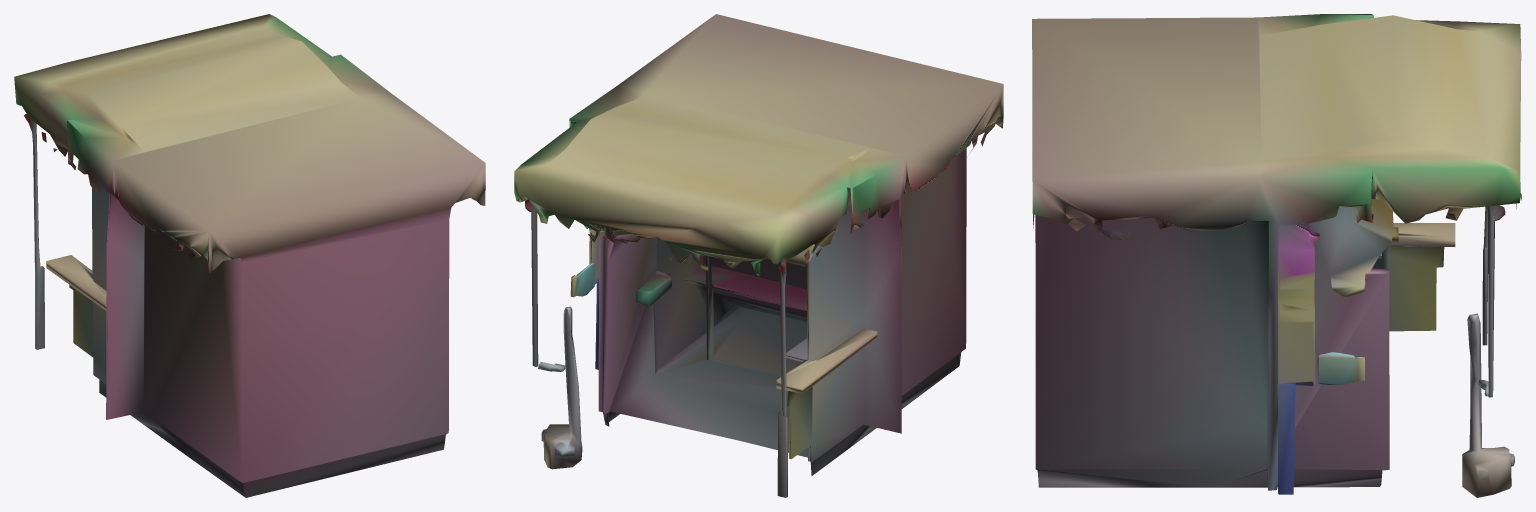
The model's file is kiosk_near.glb.
3 renders of one model, left to right at view 1: azimuth 30°, elevation 25°; view 2: azimuth 150°, elevation 25°; view 3: azimuth 270°, elevation 25°, orthographic. The views are drawn at different scales.
Visible parts, largest first — view 1: kiosk; view 2: kiosk; view 3: kiosk.
Boxes of the visible parts, box(x1,y1,x2,y2) form: kiosk: box(14, 14, 485, 497); kiosk: box(514, 14, 1003, 497); kiosk: box(1032, 14, 1521, 497).
Size of the model in its own units: 1 by 1 by 1.26.
